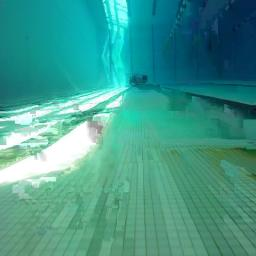Full: (129, 73, 148, 87)
